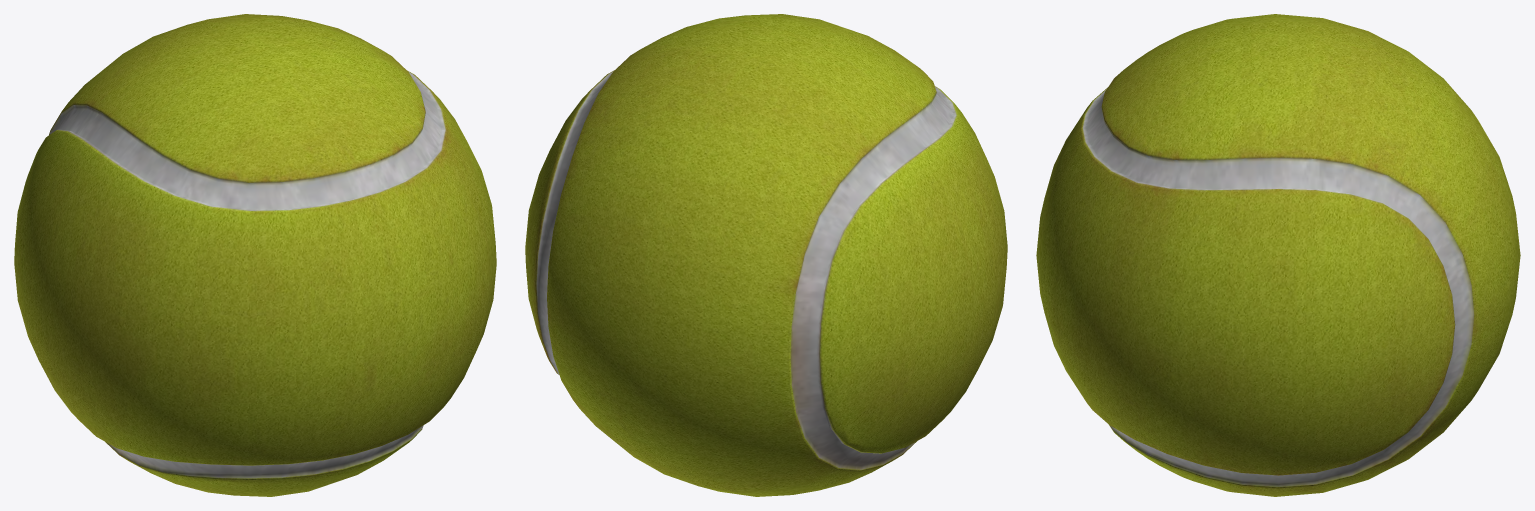
The model's file is tennis_ball.glb.
The picture shows the model from 3 angles, left to right: view 1: azimuth 30°, elevation 25°; view 2: azimuth 150°, elevation 25°; view 3: azimuth 270°, elevation 25°; orthographic projection.
Parts seen in each view (by area): view 1: tennis_ball; view 2: tennis_ball; view 3: tennis_ball.
Part boxes in pixels (box(x1,y1,x2,y2)): tennis_ball: box(14, 14, 496, 496); tennis_ball: box(525, 14, 1007, 496); tennis_ball: box(1036, 14, 1520, 496).
Bounding box in the file's own units: 17.03 × 17.03 × 17.03.
Materials: 1 (1 with a texture image).
